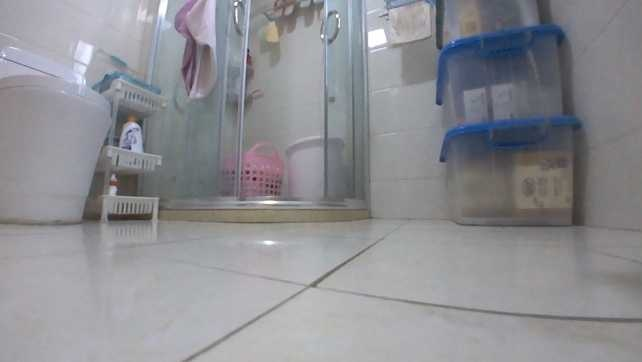toilet: (0, 48, 112, 225)
